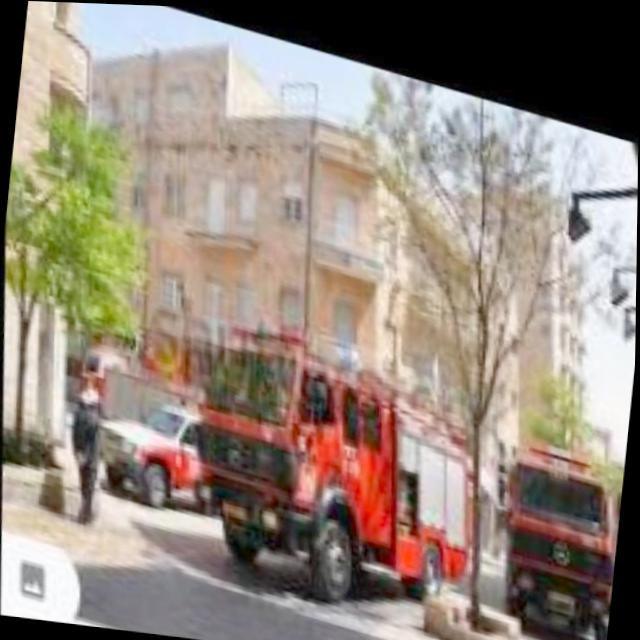emergency: (171, 313, 499, 612), (488, 430, 626, 640)
